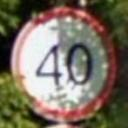speed_limit_40: (10, 6, 118, 124)
